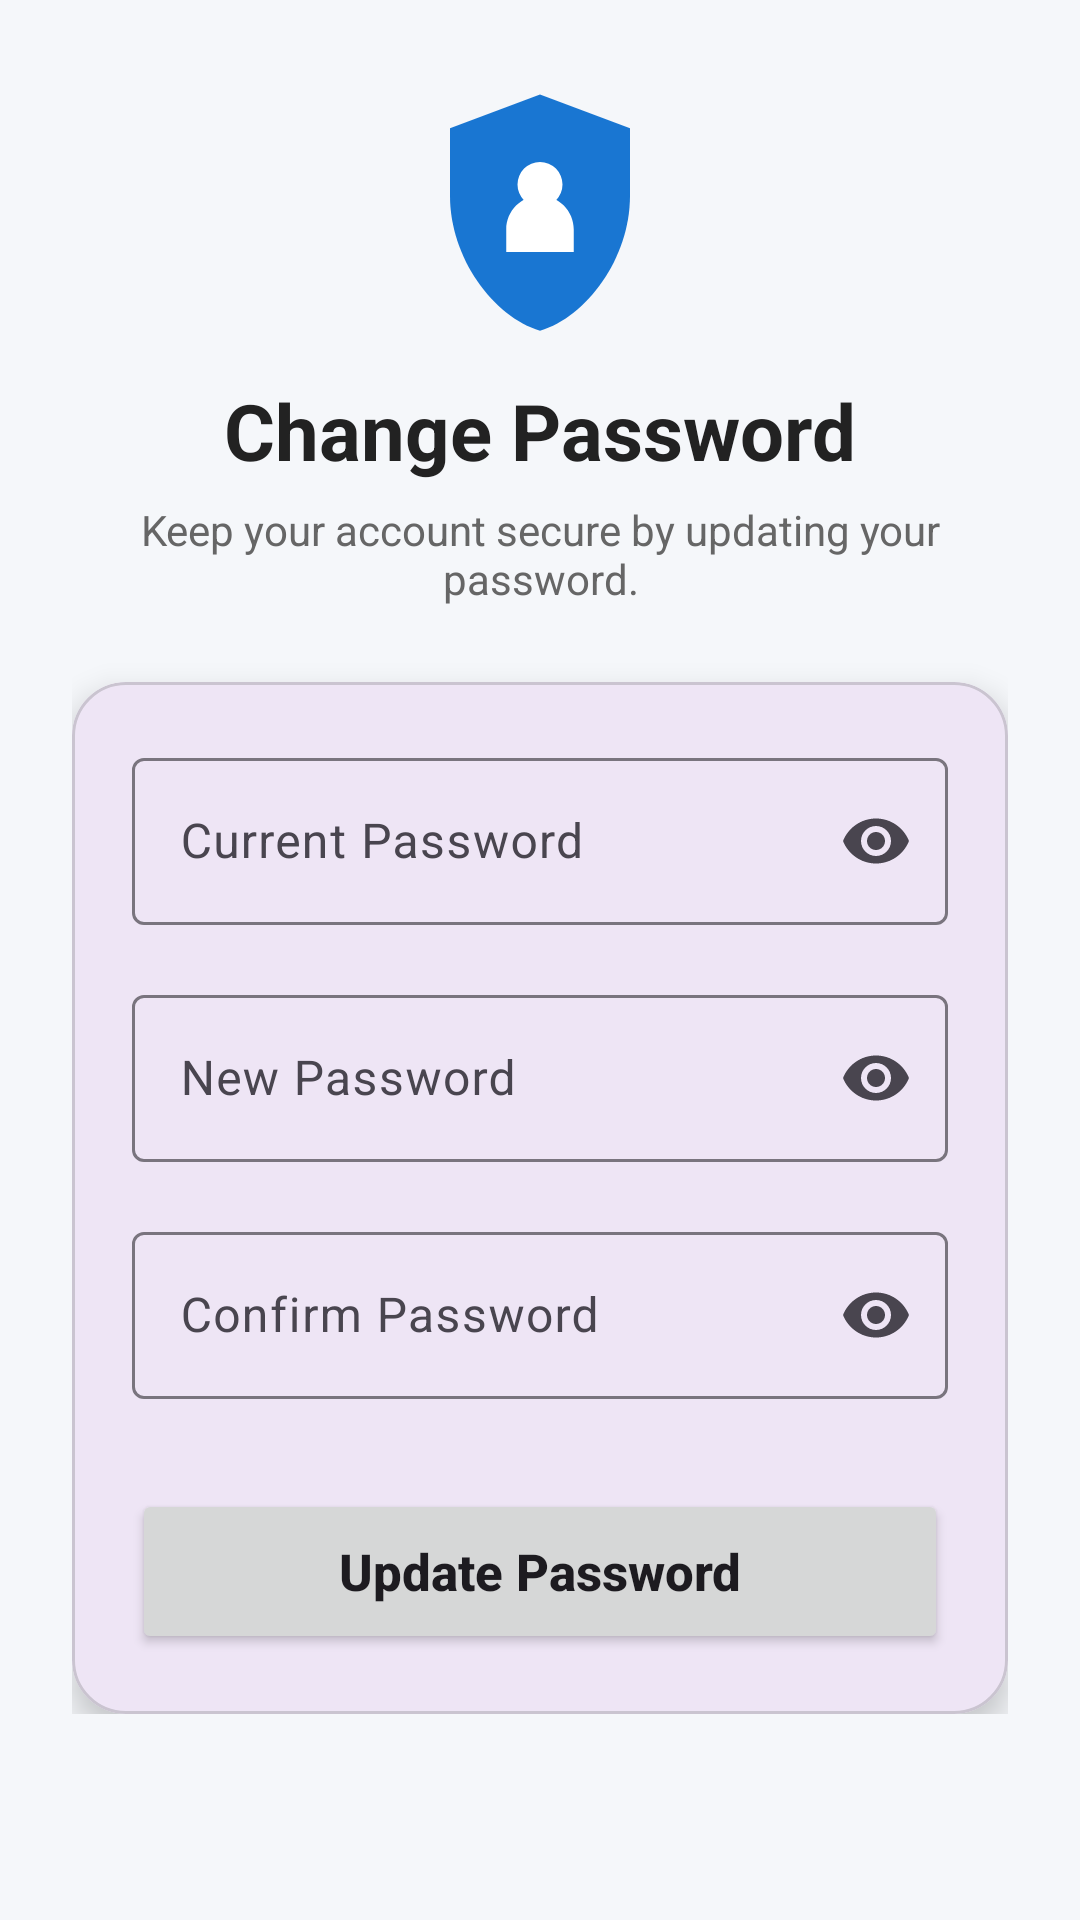

Named icons in this screenshot (1080×1920) and their bounding boxes, (x1, y1, x2, y2):
Security: (450, 94, 630, 331)
